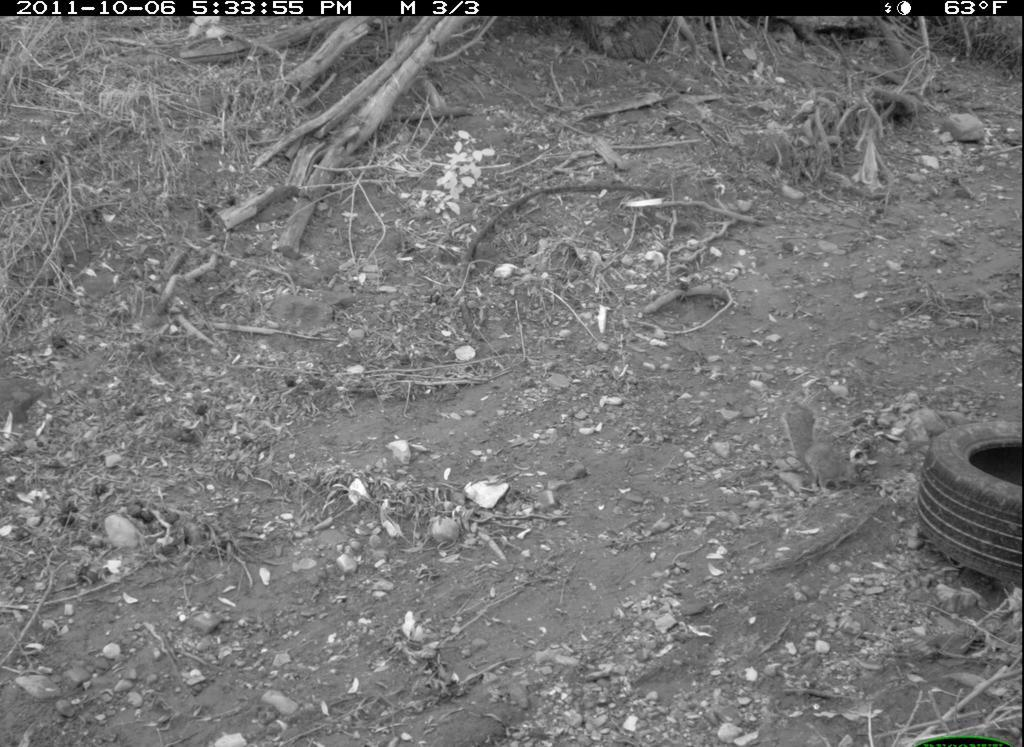squirrel: (775, 405, 869, 497)
